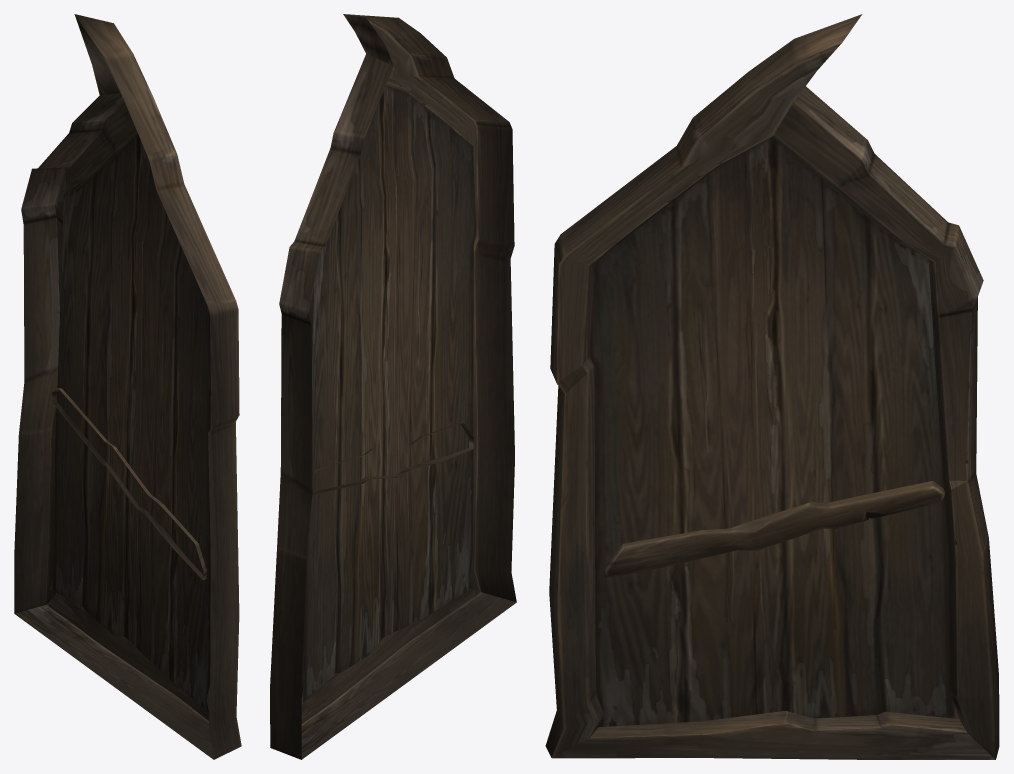
The model's file is lower_city_door_02.fbx.
The picture shows the model from 3 angles, left to right: view 1: azimuth 30°, elevation 25°; view 2: azimuth 150°, elevation 25°; view 3: azimuth 270°, elevation 25°; orthographic projection. The views are drawn at different scales.
Visible parts, largest first — view 1: lower_city_door_02; view 2: lower_city_door_02; view 3: lower_city_door_02.
Part boxes in pixels (bbox=[...]): lower_city_door_02: bbox=[14, 14, 241, 759]; lower_city_door_02: bbox=[270, 14, 516, 759]; lower_city_door_02: bbox=[545, 14, 999, 759].
Size of the model in its own units: 0.1431 by 2.47 by 1.39.
